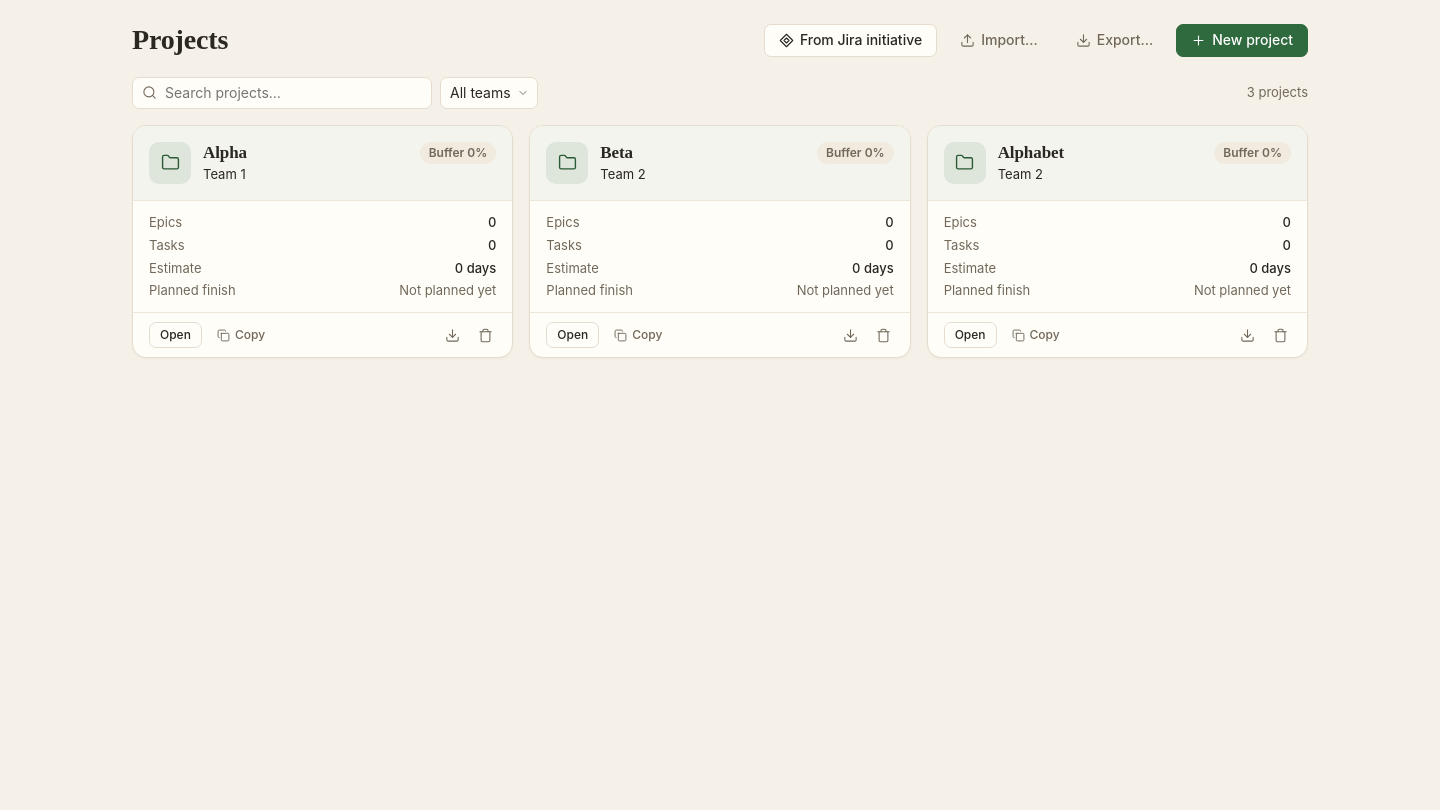
Test: ProjectsDashboard › exports a single project from its card
Click the button named "Export Beta". click: (850, 335)
box: x1=836 y1=321 x2=865 y2=349
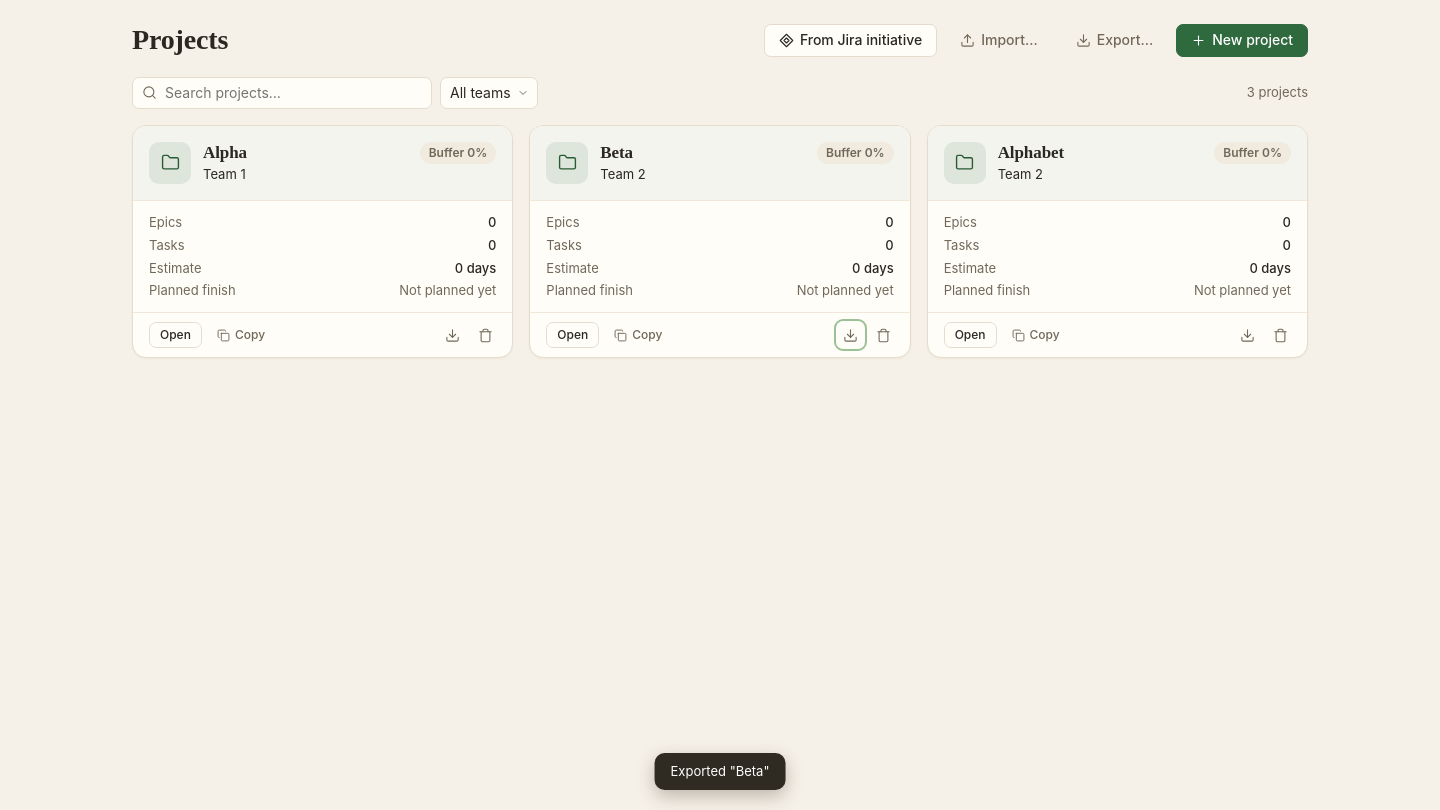
Now the text "Exported \"Beta\"" is shown, box x1=654 y1=753 x2=785 y2=790
